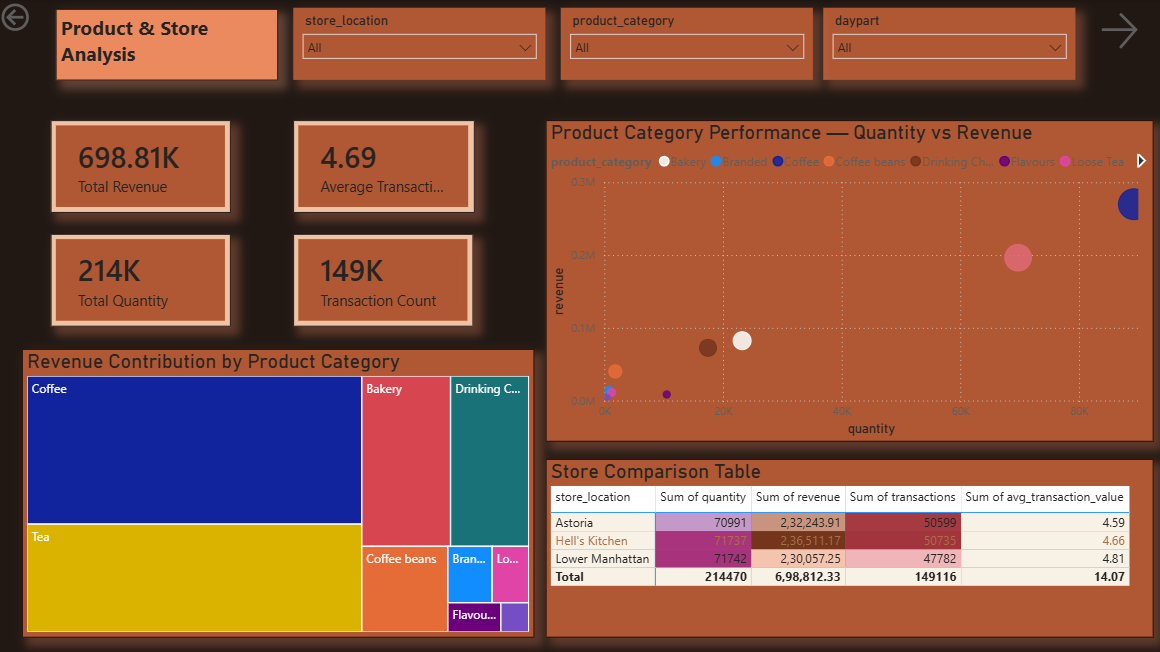

The page's visual inventory and layout, read from the dashboard file:
{"tool":"powerbi","page":{"name":"Product & Store Analysis","canvas":[1280,720],"ordinal":3},"visuals":[{"type":"treemap","title":"Revenue Contribution by Product Category","fields":{"Values":["Sum(category_summary.revenue)"],"Group":["category_summary.product_category"]},"box":[27.4,384.2,562.6,317],"z":0},{"type":"scatterChart","title":"Product Category Performance — Quantity vs Revenue","fields":{"X":["category_summary.quantity"],"Y":["category_summary.revenue"],"Series":["category_summary.product_category"],"Size":["Sum(category_summary.revenue)"]},"box":[602.4,133.1,666.9,352.7],"z":1000},{"type":"pivotTable","title":"Store Comparison Table","fields":{"Rows":["store_summary.store_location"],"Values":["Sum(store_summary.quantity)","Sum(store_summary.revenue)","Sum(store_summary.transactions)","Sum(store_summary.avg_transaction_value)"]},"box":[602.4,505,666.9,196.2],"z":2000},{"type":"textbox","box":[64.5,11,244.3,78.2],"z":3000},{"type":"cardVisual","fields":{"Data":["transactions_clean.Total Revenue"]},"box":[59,133.1,197.6,101.5],"z":4000},{"type":"cardVisual","fields":{"Data":["transactions_clean.Total Quantity"]},"box":[59,258,197.6,101.5],"z":5000},{"type":"cardVisual","fields":{"Data":["transactions_clean.Transaction Count"]},"box":[325.2,258,197.6,101.5],"z":6000},{"type":"cardVisual","fields":{"Data":["transactions_clean.Average Transaction Value"]},"box":[325.2,133.1,199,101.5],"z":7000},{"type":"slicer","fields":{"Values":["transactions_clean.daypart"]},"box":[907,9.6,277.2,79.6],"z":8000},{"type":"slicer","fields":{"Values":["transactions_clean.product_category"]},"box":[618.9,9.6,277.2,79.6],"z":9000},{"type":"slicer","fields":{"Values":["transactions_clean.store_location"]},"box":[325.2,9.6,277.2,79.6],"z":10000},{"type":"actionButton","box":[0,0,100,40],"z":11000},{"type":"actionButton","box":[1206.2,9.6,63.1,50.8],"z":12000}]}

Visuals, with their boxes in screenshot pixels (x1, y1, x2, y2), scaled from the page's 1280x720 canvas onto the 1160x652 screenshot:
"Revenue Contribution by Product Category" treemap: (25, 348, 535, 635)
"Product Category Performance — Quantity vs Revenue" scatterChart: (546, 121, 1150, 440)
"Store Comparison Table" pivotTable: (546, 457, 1150, 635)
textbox: (58, 10, 280, 81)
cardVisual - transactions_clean.Total Revenue: (53, 121, 233, 212)
cardVisual - transactions_clean.Total Quantity: (53, 234, 233, 326)
cardVisual - transactions_clean.Transaction Count: (295, 234, 474, 326)
cardVisual - transactions_clean.Average Transaction Value: (295, 121, 475, 212)
slicer - transactions_clean.daypart: (822, 9, 1073, 81)
slicer - transactions_clean.product_category: (561, 9, 812, 81)
slicer - transactions_clean.store_location: (295, 9, 546, 81)
actionButton: (0, 0, 91, 36)
actionButton: (1093, 9, 1150, 55)
